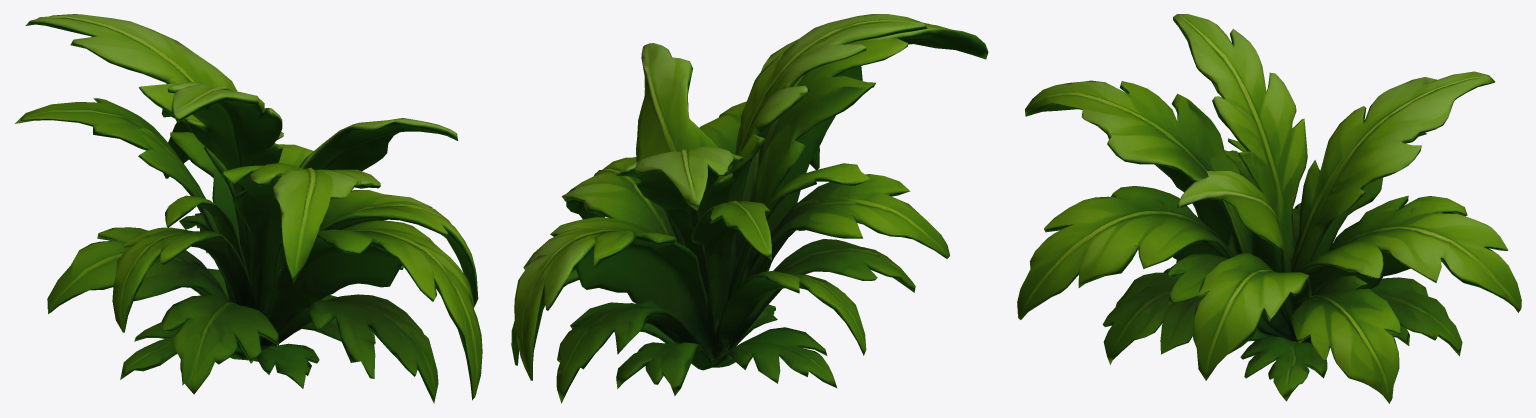
The model's file is plant.glb.
The picture shows the model from 3 angles, left to right: view 1: azimuth 30°, elevation 25°; view 2: azimuth 150°, elevation 25°; view 3: azimuth 270°, elevation 25°; orthographic projection. The views are drawn at different scales.
Parts seen in each view (by area): view 1: tripo_node_a7b0c372-5e75-4f36-b1fc-49d5ae889ff4; view 2: tripo_node_a7b0c372-5e75-4f36-b1fc-49d5ae889ff4; view 3: tripo_node_a7b0c372-5e75-4f36-b1fc-49d5ae889ff4.
Part boxes in pixels (x1,y1,x2,y2): tripo_node_a7b0c372-5e75-4f36-b1fc-49d5ae889ff4: (15,14,482,403); tripo_node_a7b0c372-5e75-4f36-b1fc-49d5ae889ff4: (511,14,988,403); tripo_node_a7b0c372-5e75-4f36-b1fc-49d5ae889ff4: (1017,14,1521,403).
Size of the model in its own units: 0.6948 by 0.6143 by 1.
1 material, 1 textured.
